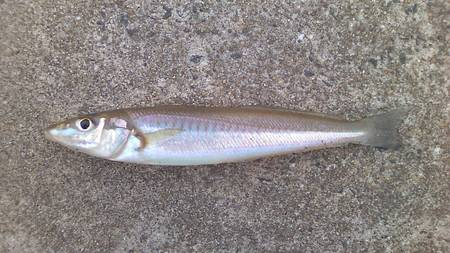kiss: (41, 97, 418, 169)
